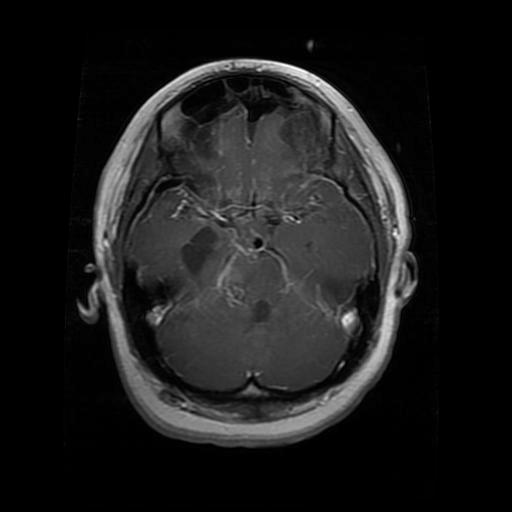Tumour-Glioma: (179, 226, 233, 284)
